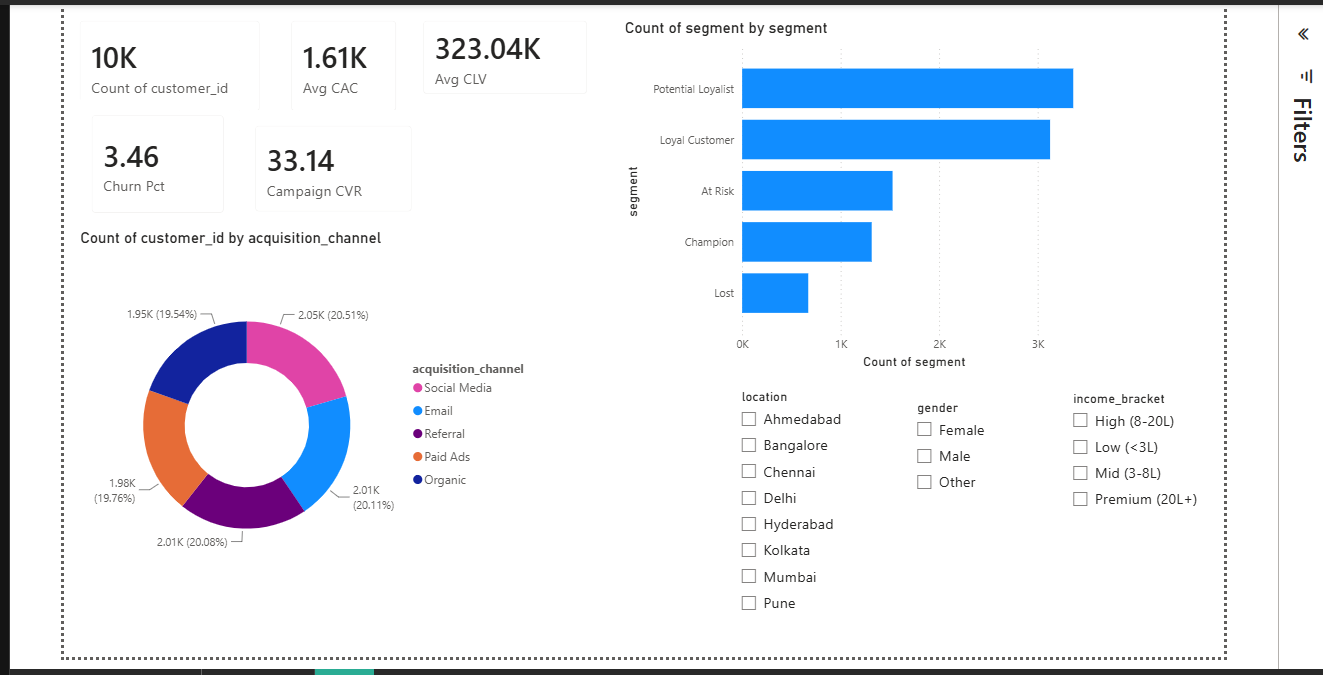

Layout of this report page (visuals, bound fields, positions):
{"tool":"powerbi","page":{"name":"Page 1","canvas":[1280,720],"ordinal":0},"visuals":[{"type":"cardVisual","fields":{"Data":["CountNonNull(customer_analytics customers.customer_id)"]},"box":[0,0,233.6,134.2],"z":0},{"type":"cardVisual","fields":{"Data":["customer_analytics customers.Avg CAC"]},"box":[233.6,0,150.7,134.2],"z":1000},{"type":"cardVisual","fields":{"Data":["customer_analytics customers.Avg CLV"]},"box":[379.3,0,215.3,116],"z":2000},{"type":"cardVisual","fields":{"Data":["customer_analytics customers.Churn Pct"]},"box":[13.3,104.4,180.6,142.5],"z":3000},{"type":"cardVisual","fields":{"Data":["customer_analytics customers.Campaign CVR"]},"box":[193.8,116,207.1,129.2],"z":4000},{"type":"barChart","fields":{"Y":["CountNonNull(customer_analytics rfm_segments.segment)"],"Category":["customer_analytics rfm_segments.segment"]},"box":[614.6,14.9,526.8,390.9],"z":5000},{"type":"donutChart","fields":{"Category":["customer_analytics customers.acquisition_channel"],"Y":["CountNonNull(customer_analytics customers.customer_id)"]},"box":[13.3,246.8,513.5,414.1],"z":6000},{"type":"slicer","fields":{"Values":["customer_analytics customers.location"]},"box":[735.5,419.1,167.3,301.5],"z":7000},{"type":"slicer","fields":{"Values":["customer_analytics customers.gender"]},"box":[929.3,430.7,147.4,279.9],"z":8000},{"type":"slicer","fields":{"Values":["customer_analytics customers.income_bracket"]},"box":[1101.6,420.7,160.7,268.3],"z":9000}]}

Visuals, with their boxes on the page's 1280x720 design canvas (x1, y1, x2, y2). These are canvas units, not pixel positions in the 1323x675 screenshot, which may show the page scaled, cropped or inside an application window:
cardVisual - CountNonNull(customer_analytics customers.customer_id): <box>0,0,234,134</box>
cardVisual - customer_analytics customers.Avg CAC: <box>234,0,384,134</box>
cardVisual - customer_analytics customers.Avg CLV: <box>379,0,595,116</box>
cardVisual - customer_analytics customers.Churn Pct: <box>13,104,194,247</box>
cardVisual - customer_analytics customers.Campaign CVR: <box>194,116,401,245</box>
barChart - CountNonNull(customer_analytics rfm_segments.segment) x customer_analytics rfm_segments.segment: <box>615,15,1141,406</box>
donutChart - customer_analytics customers.acquisition_channel x CountNonNull(customer_analytics customers.customer_id): <box>13,247,527,661</box>
slicer - customer_analytics customers.location: <box>736,419,903,721</box>
slicer - customer_analytics customers.gender: <box>929,431,1077,711</box>
slicer - customer_analytics customers.income_bracket: <box>1102,421,1262,689</box>
